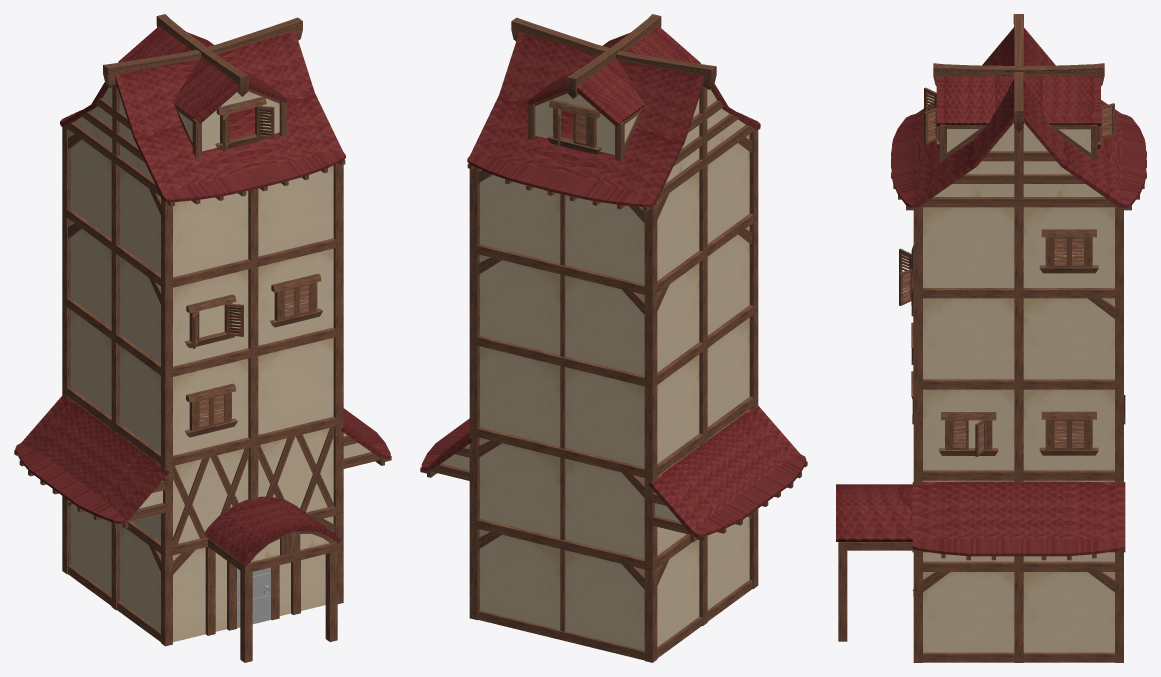
Rendered from House8_FBX.fbx.
3 renders of one model, left to right at view 1: azimuth 30°, elevation 25°; view 2: azimuth 150°, elevation 25°; view 3: azimuth 270°, elevation 25°, orthographic. The views are drawn at different scales.
Parts seen in each view (by area): view 1: House8; view 2: House8; view 3: House8.
Part boxes in pixels (x1=…): House8: x1=14, y1=14, x2=391, y2=662; House8: x1=420, y1=14, x2=807, y2=662; House8: x1=836, y1=14, x2=1146, y2=662.
Bounding box in the file's own units: 1400 × 2440 × 1236.
